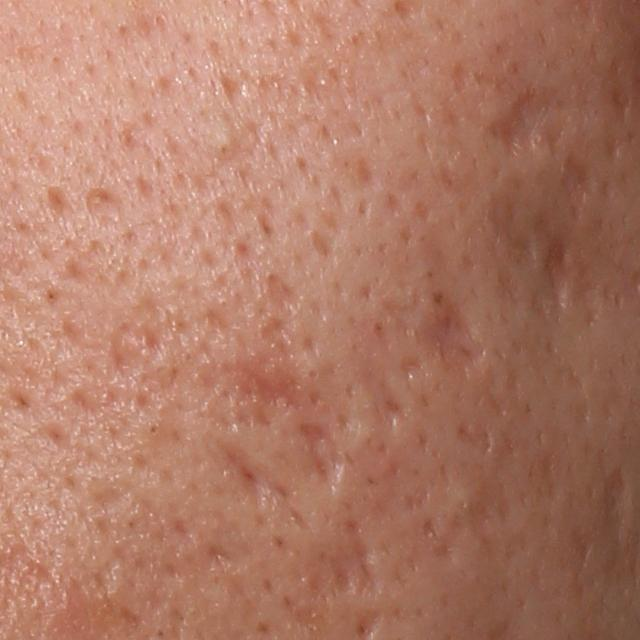atrophic_scar: (45, 268, 202, 413), (433, 455, 526, 558), (192, 356, 329, 420), (476, 81, 581, 162), (292, 521, 389, 608), (404, 283, 493, 376), (214, 435, 302, 513), (574, 465, 639, 570), (296, 418, 349, 491), (544, 230, 581, 316), (358, 361, 406, 423), (559, 153, 593, 221), (407, 464, 453, 512), (80, 190, 125, 230), (352, 151, 380, 202), (456, 417, 495, 453), (267, 272, 297, 316), (89, 481, 135, 508), (44, 184, 79, 218), (223, 72, 257, 106), (308, 226, 337, 261), (423, 516, 438, 540)
